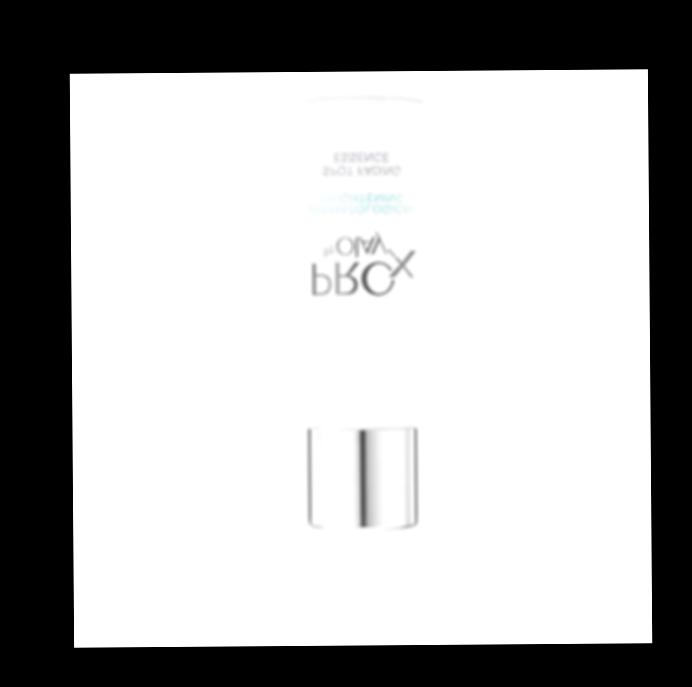cosmetic: (289, 109, 441, 615)
